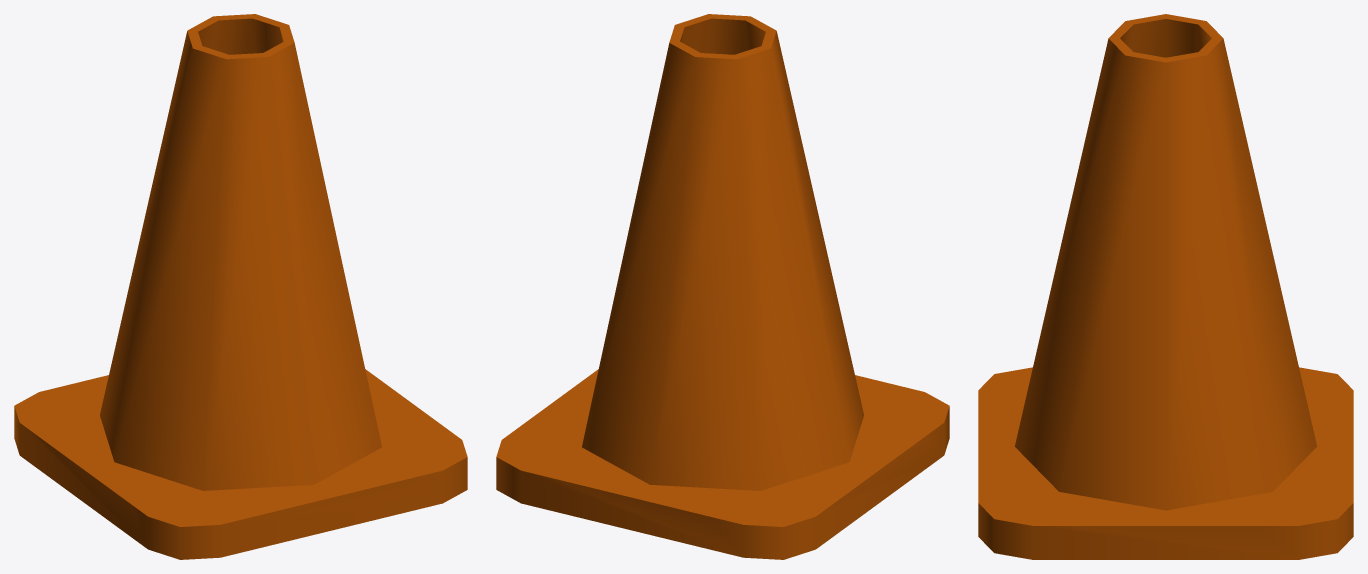
File: TrafficCone.fbx
3 renders of one model, left to right at view 1: azimuth 30°, elevation 25°; view 2: azimuth 150°, elevation 25°; view 3: azimuth 270°, elevation 25°, orthographic. The views are drawn at different scales.
Parts seen in each view (by area): view 1: Cube; view 2: Cube; view 3: Cube.
Part boxes in pixels (bbox=[...]): Cube: bbox=[14, 14, 467, 559]; Cube: bbox=[496, 14, 949, 559]; Cube: bbox=[978, 14, 1353, 559].
Size of the model in its own units: 35.12 by 45.66 by 35.12.
